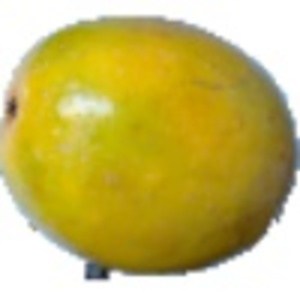maracujá: (1, 1, 300, 282)
